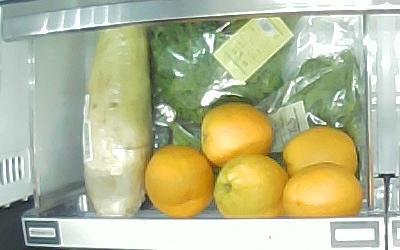orange: (145, 145, 215, 217), (202, 102, 274, 167), (214, 155, 289, 217), (282, 163, 363, 217), (284, 127, 358, 175)
